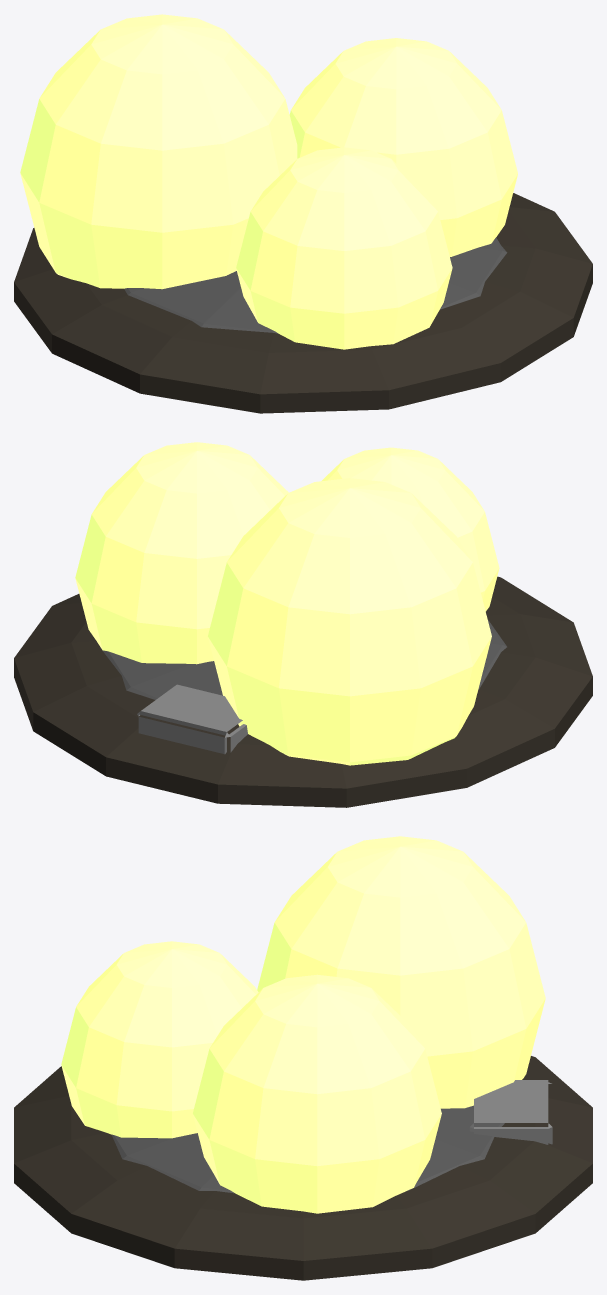
Rendered from bl_bladder.glb.
3 renders of one model, top to bottom at view 1: azimuth 30°, elevation 25°; view 2: azimuth 150°, elevation 25°; view 3: azimuth 270°, elevation 25°, orthographic. The views are drawn at different scales.
Parts seen in each view (by area): view 1: body; view 2: body; view 3: body.
Part boxes in pixels (bbox=[...]): body: bbox=[14, 14, 592, 413]; body: bbox=[14, 442, 592, 807]; body: bbox=[14, 836, 592, 1280].
Bounding box in the file's own units: 41.18 × 23.18 × 40.15.
